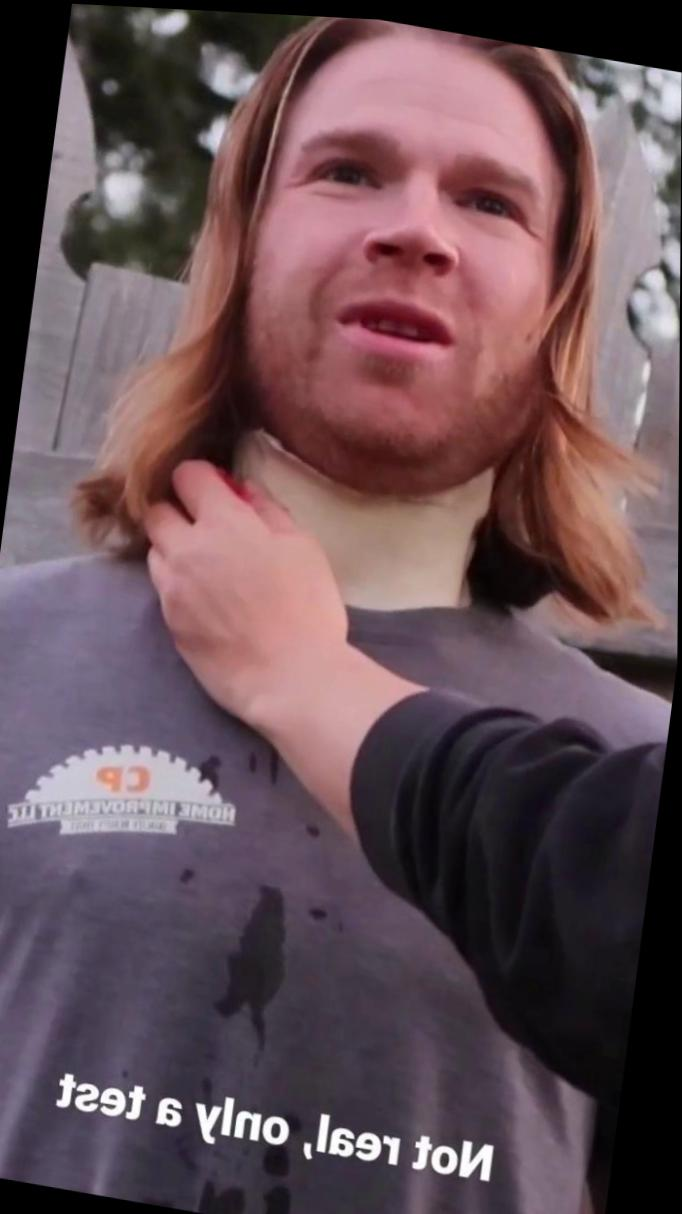Fire: (216, 462, 248, 499)
